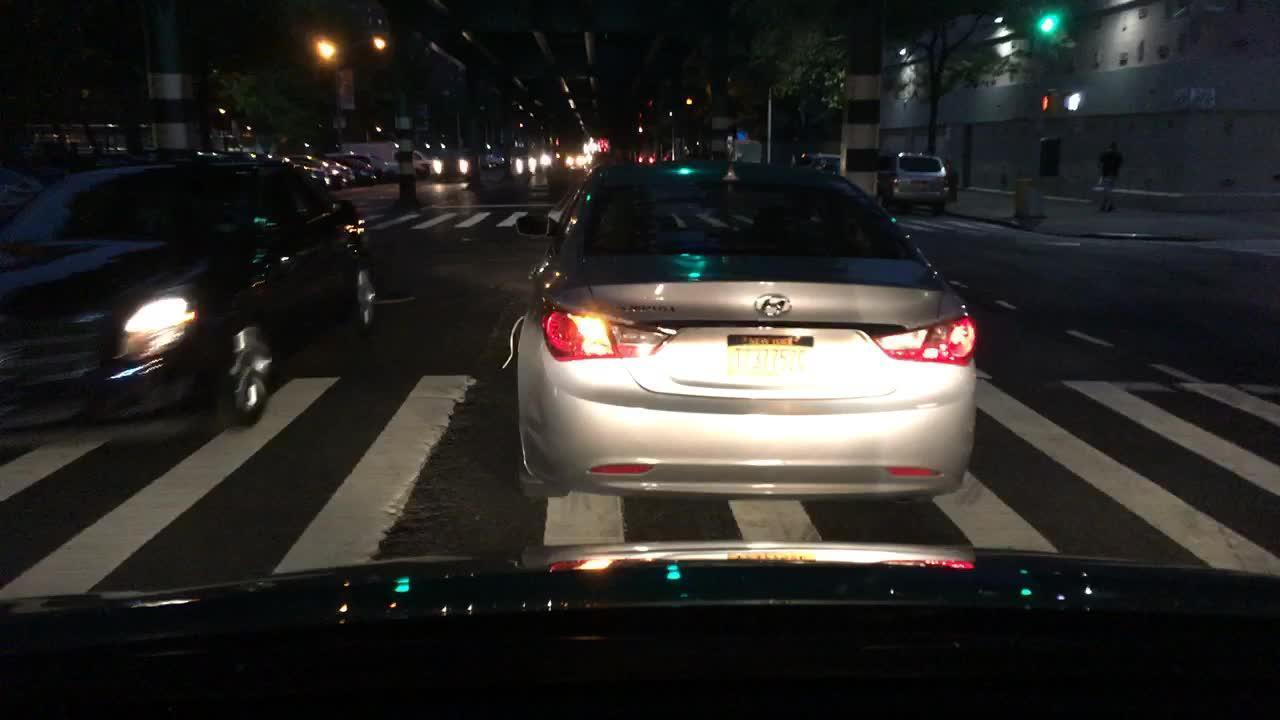Hyundai: (733, 291, 813, 330)
